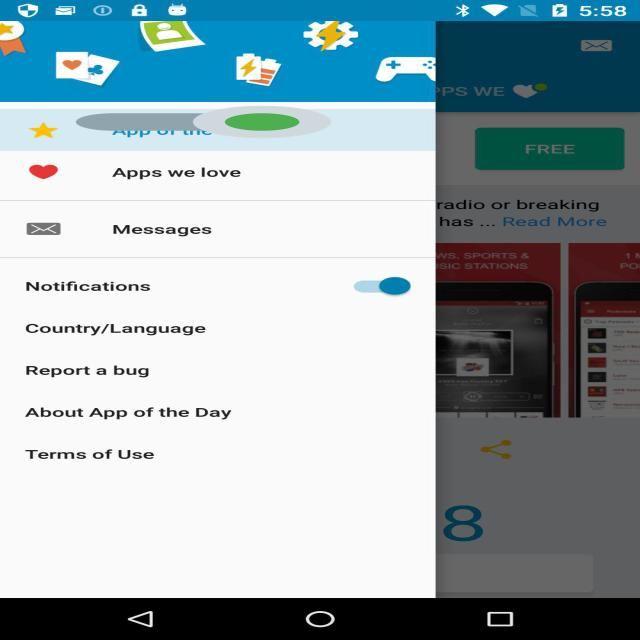social proof: (76, 92, 331, 152)
